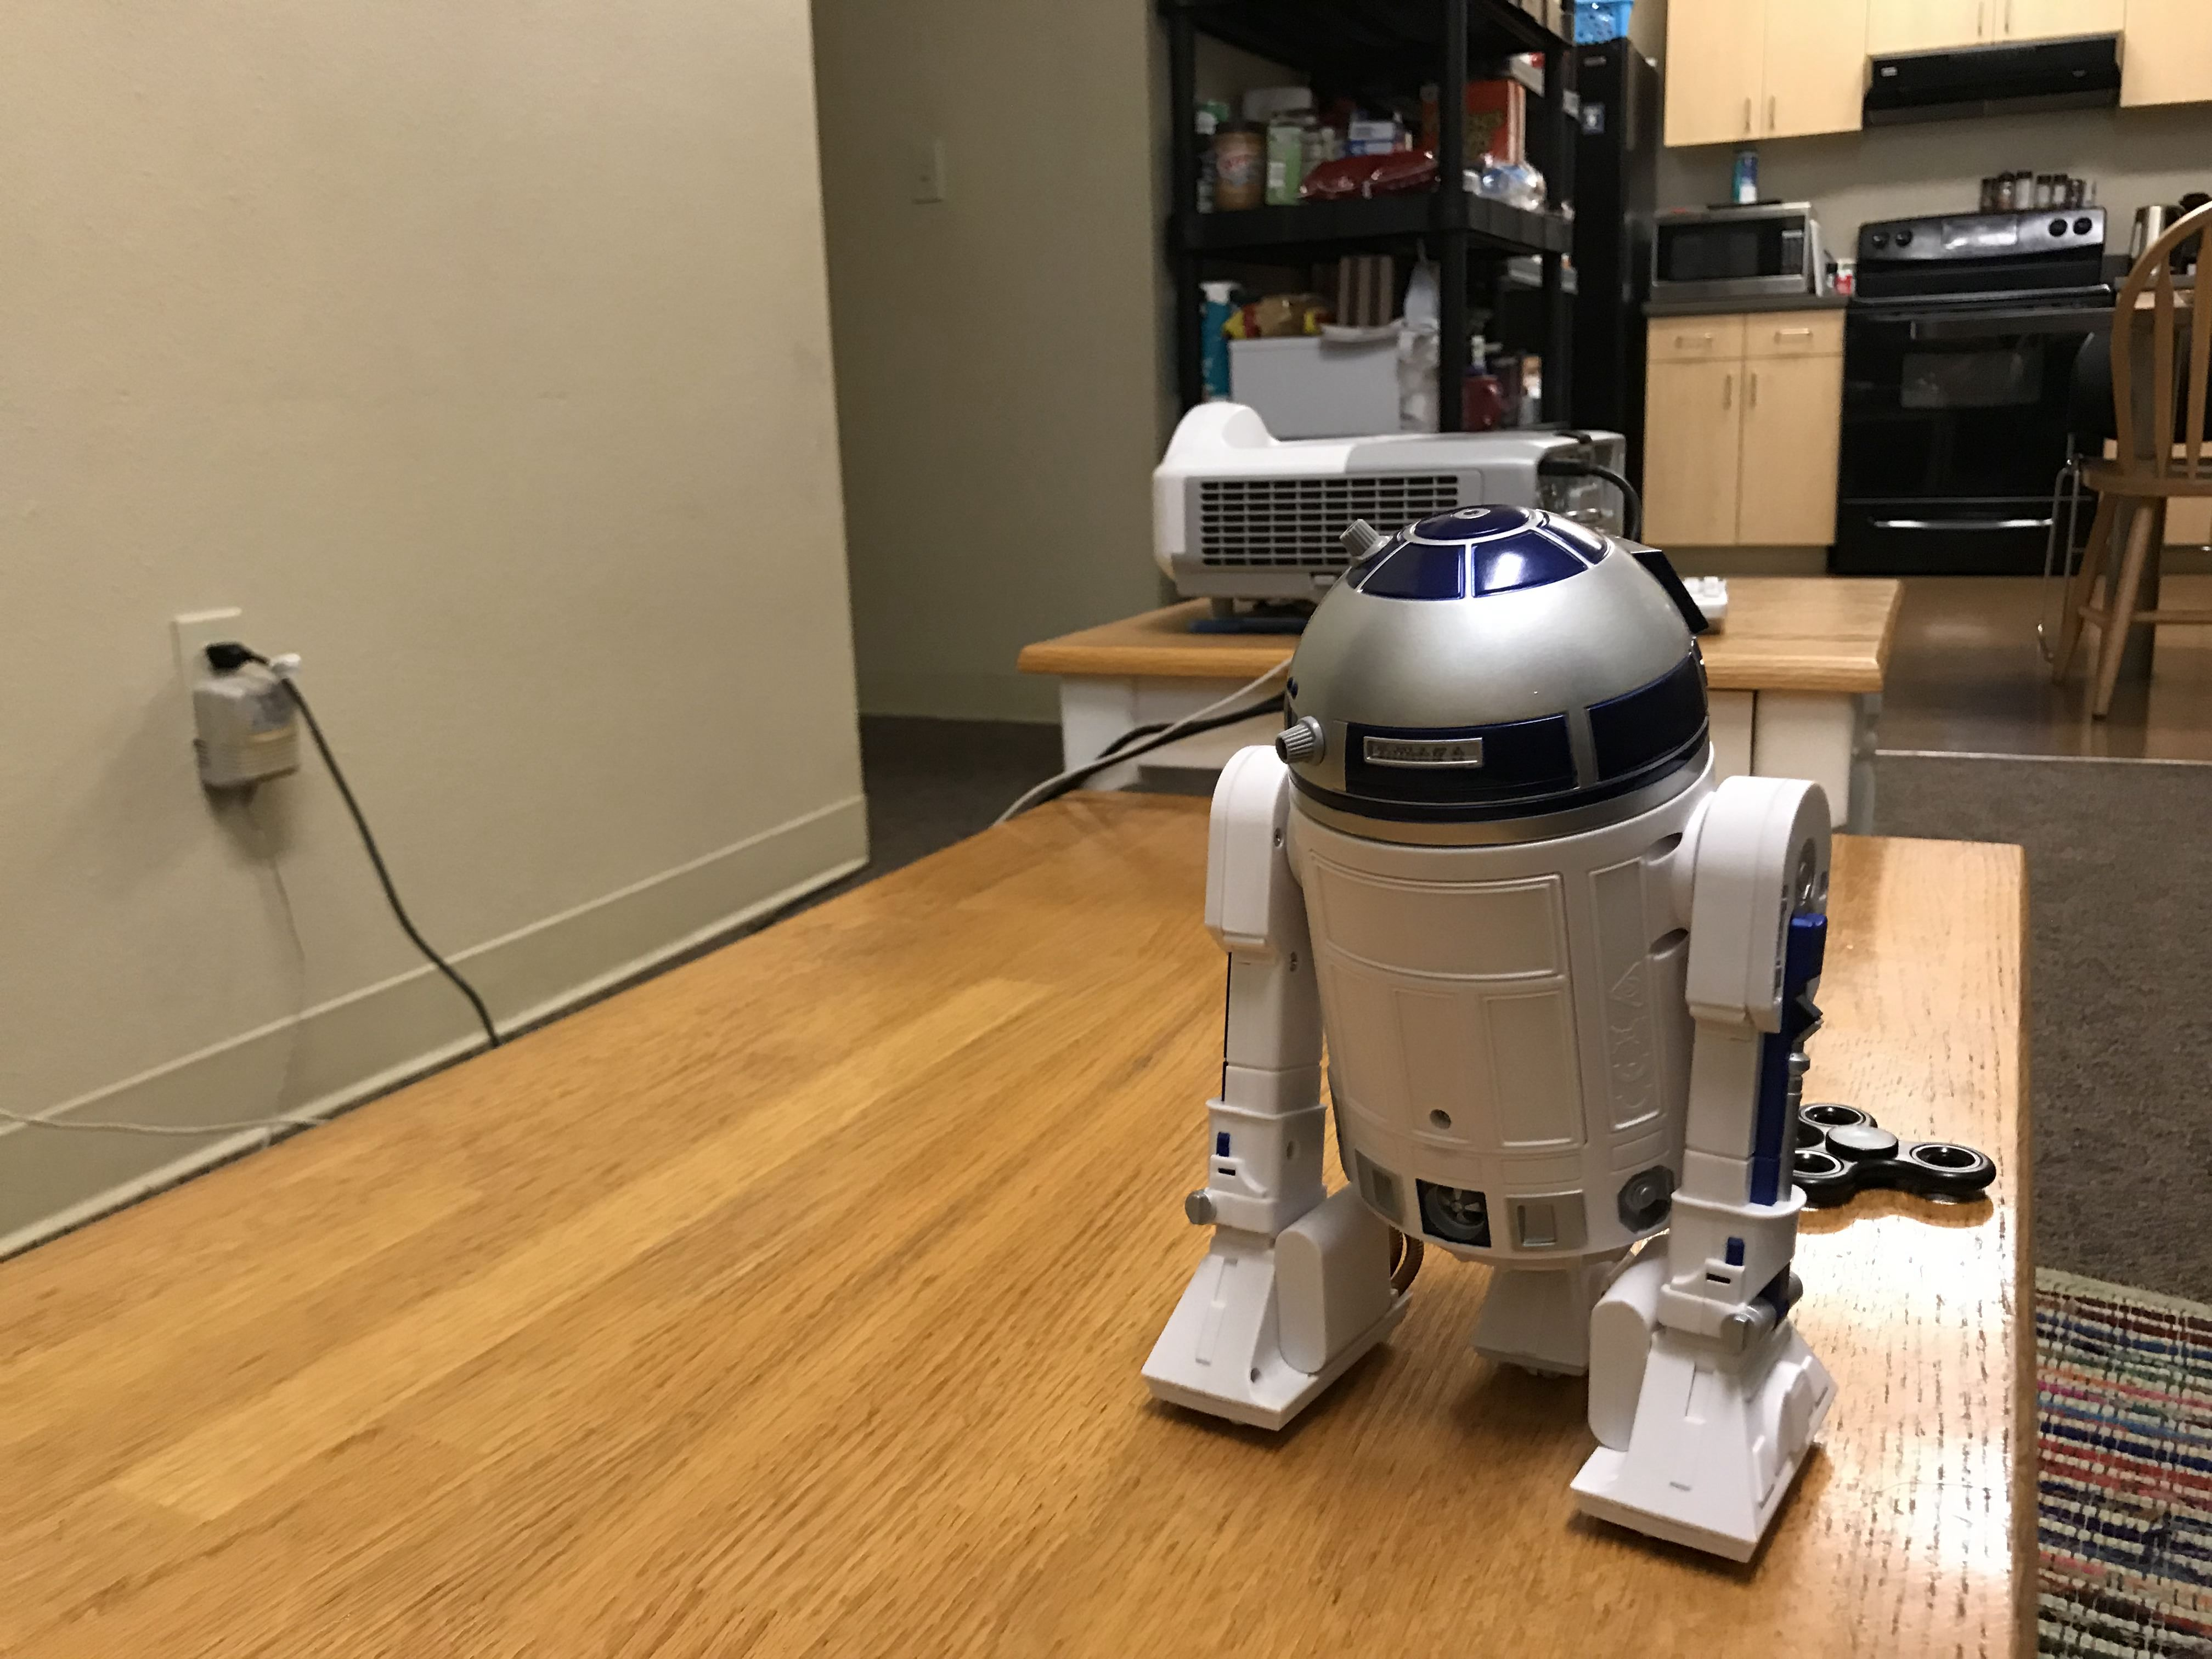r2d2: (1141, 498, 1841, 1561)
